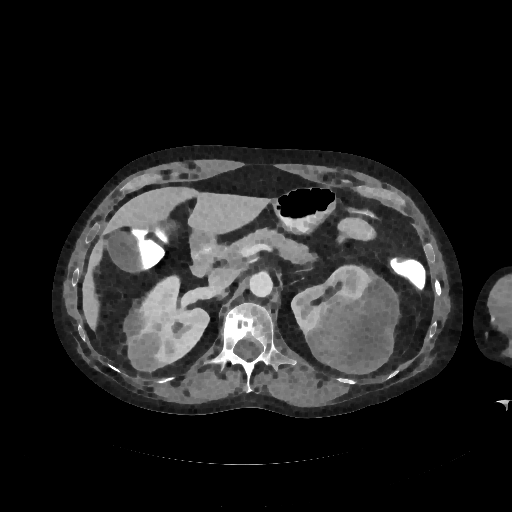Lesion: (324, 276, 401, 376)
